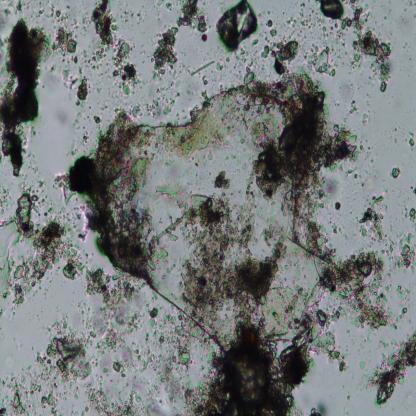Background material: (175, 314, 313, 416), (0, 172, 87, 312), (326, 194, 416, 326), (0, 16, 50, 179), (52, 146, 101, 245), (342, 13, 396, 96), (365, 327, 416, 411), (36, 312, 94, 380), (150, 344, 204, 414), (84, 265, 142, 330), (0, 366, 57, 416), (217, 0, 260, 50), (111, 32, 143, 96), (86, 380, 141, 416), (150, 21, 183, 80), (262, 34, 300, 74), (50, 3, 78, 57), (299, 10, 343, 43), (330, 126, 361, 172), (58, 64, 89, 109), (91, 0, 118, 48), (307, 44, 339, 82), (176, 0, 208, 36), (96, 320, 127, 353), (128, 99, 178, 119), (328, 330, 350, 374), (131, 344, 159, 374), (140, 383, 163, 416), (71, 112, 91, 145), (318, 0, 346, 22), (0, 175, 12, 222), (85, 47, 109, 70), (114, 360, 138, 380), (191, 57, 215, 76), (60, 381, 80, 402), (243, 64, 258, 86), (344, 99, 357, 124), (154, 80, 175, 94), (359, 143, 373, 163), (311, 401, 327, 416), (342, 0, 362, 12), (323, 179, 338, 195), (235, 48, 248, 66), (152, 0, 166, 15), (407, 129, 416, 151), (13, 0, 25, 15), (122, 9, 134, 24), (137, 5, 145, 26), (390, 165, 402, 179), (344, 165, 358, 176), (4, 0, 13, 17), (286, 17, 298, 29), (180, 62, 191, 75), (362, 114, 372, 126), (288, 27, 296, 41), (201, 72, 209, 86), (150, 307, 158, 320), (164, 0, 173, 11), (83, 17, 90, 31), (358, 176, 366, 188), (92, 115, 102, 124), (34, 9, 44, 18), (100, 365, 110, 374), (216, 59, 223, 71), (185, 88, 194, 96), (80, 406, 88, 415), (358, 360, 367, 368), (300, 1, 306, 12), (366, 97, 372, 108), (72, 55, 80, 63), (252, 37, 260, 45), (407, 0, 416, 7), (92, 357, 98, 367), (252, 56, 258, 66), (266, 18, 272, 28), (71, 409, 79, 416), (175, 90, 182, 98), (363, 4, 370, 12), (247, 60, 254, 68), (83, 47, 88, 58), (403, 39, 408, 50), (98, 72, 107, 78), (202, 91, 208, 100), (202, 34, 209, 41), (271, 30, 278, 37), (224, 55, 231, 62), (100, 106, 108, 112), (410, 186, 416, 194), (336, 52, 342, 60), (51, 64, 56, 72), (393, 136, 398, 144), (304, 50, 308, 60), (96, 87, 102, 93), (266, 9, 272, 15), (219, 84, 223, 92), (60, 56, 65, 62), (370, 158, 376, 163), (388, 8, 393, 14), (27, 2, 31, 9), (354, 173, 358, 180), (66, 58, 70, 64), (39, 0, 42, 8), (394, 127, 398, 132), (404, 8, 408, 13), (413, 12, 416, 18), (120, 14, 123, 19), (347, 396, 350, 401), (384, 16, 387, 20), (308, 0, 310, 3)
Fragment: (99, 79, 348, 365)
